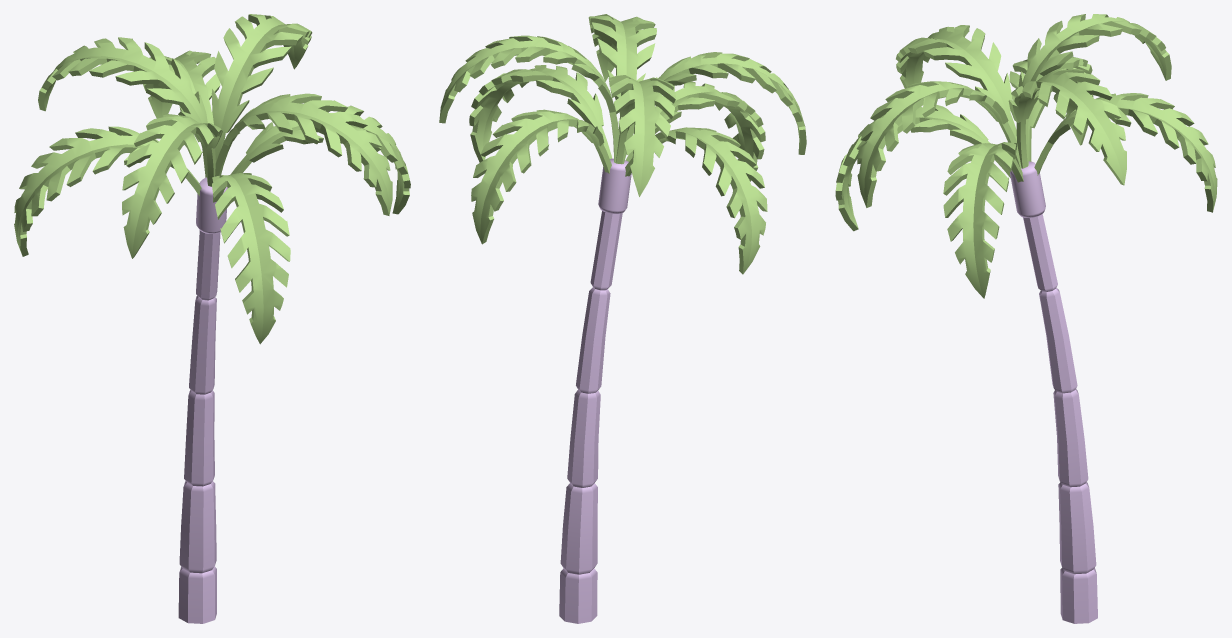
Rendered from palm4.fbx.
3 renders of one model, left to right at view 1: azimuth 30°, elevation 25°; view 2: azimuth 150°, elevation 25°; view 3: azimuth 270°, elevation 25°, orthographic. The views are drawn at different scales.
Visible parts, largest first — view 1: palm4; view 2: palm4; view 3: palm4.
Part boxes in pixels (x1,y1,x2,y2): palm4: [14, 14, 410, 623]; palm4: [439, 14, 806, 623]; palm4: [835, 14, 1217, 623].
Bounding box in the file's own units: 5.39 × 8.71 × 5.34.
